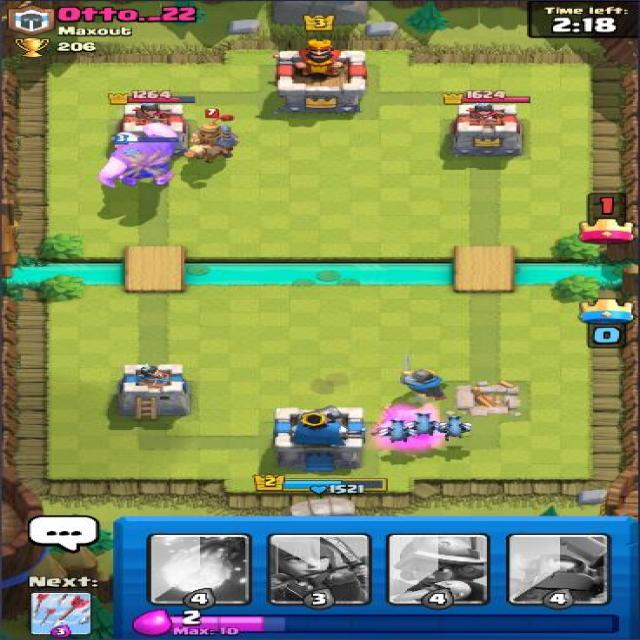Enemy-Prince: (184, 107, 240, 165)
Player-Giant: (97, 134, 181, 188)
Player-Knight: (396, 353, 448, 402)
Player-Minion: (376, 417, 419, 444), (437, 415, 473, 442), (408, 411, 442, 437)
